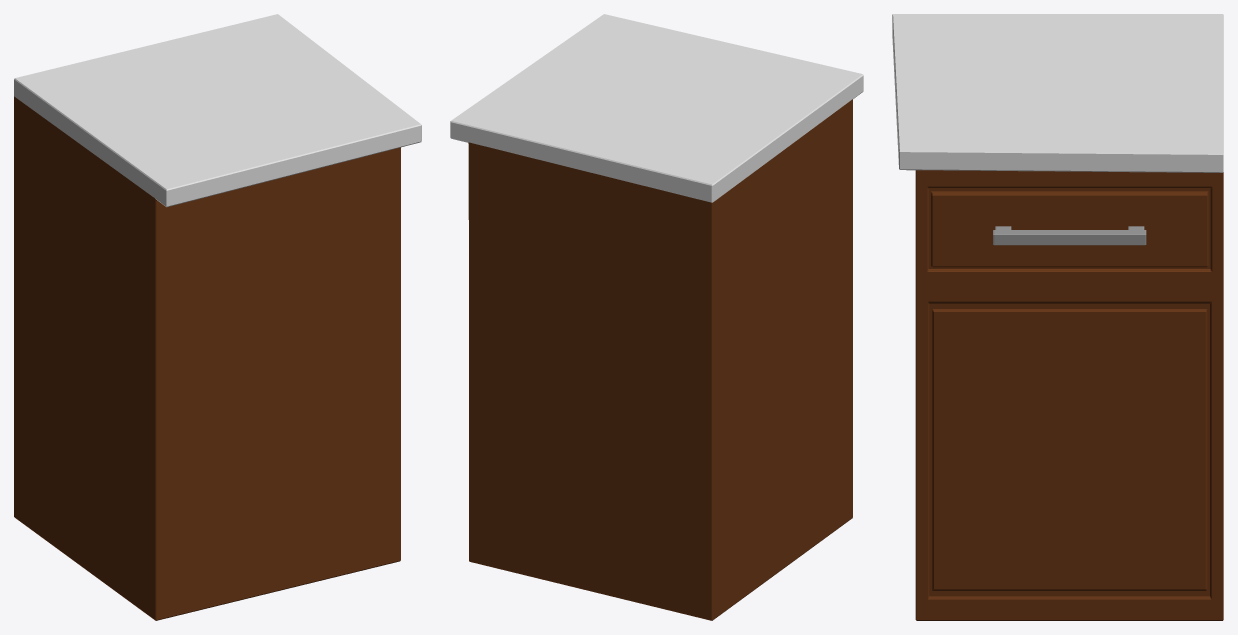
Rendered from CornerCabinet3.fbx.
3 views of the same model, side by side, from view 1: azimuth 30°, elevation 25°; view 2: azimuth 150°, elevation 25°; view 3: azimuth 270°, elevation 25° (orthographic). The views are drawn at different scales.
Parts seen in each view (by area): view 1: Fridge.006; view 2: Fridge.006; view 3: Fridge.006.
Boxes of the visible parts, x1,y1,x2,y2 form: Fridge.006: [14, 14, 421, 620]; Fridge.006: [450, 14, 863, 620]; Fridge.006: [892, 14, 1223, 620].
Size of the model in its own units: 151 by 242 by 151.
